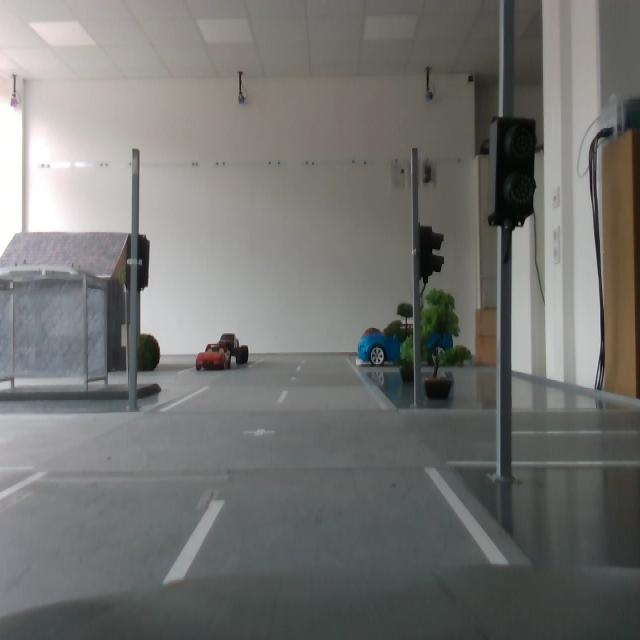car: (355, 318, 456, 368), (214, 331, 251, 367), (195, 343, 235, 373)
potted plant: (400, 290, 476, 399), (385, 301, 416, 382), (138, 333, 163, 373), (358, 327, 383, 363)
traffic light: (487, 116, 537, 229), (124, 232, 153, 295), (418, 224, 445, 284)
